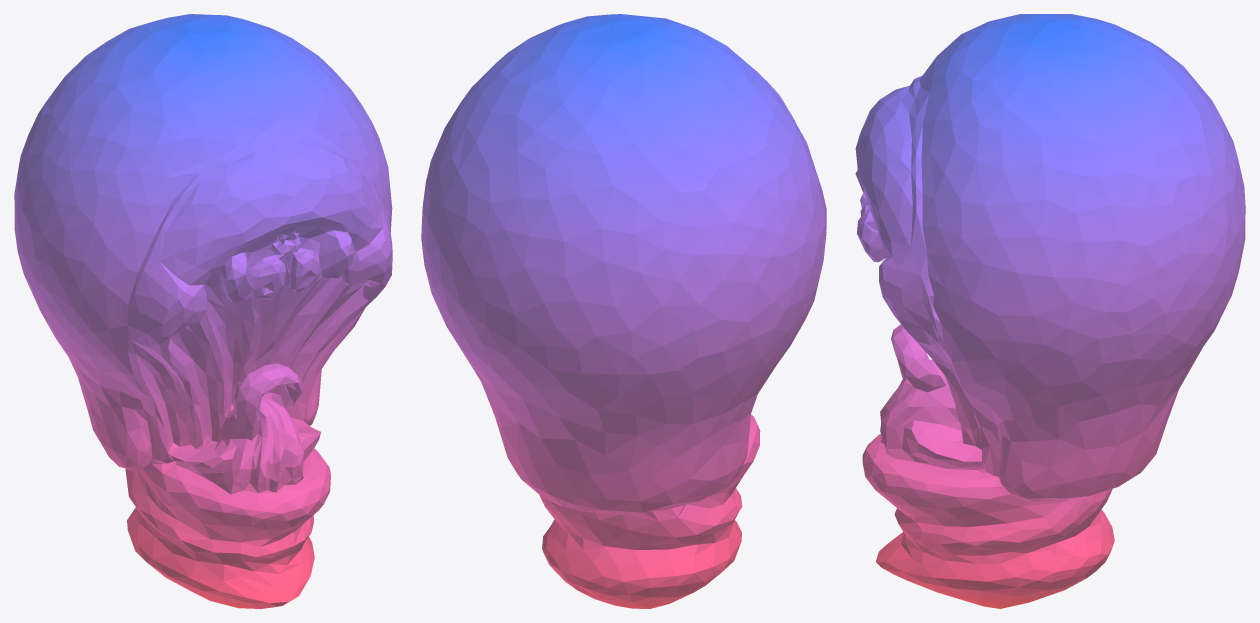
The model's file is 84_cyb_laser_gradient_fish_scales_2826_2026_10_03_7f14d2.glb.
3 renders of one model, left to right at view 1: azimuth 30°, elevation 25°; view 2: azimuth 150°, elevation 25°; view 3: azimuth 270°, elevation 25°, orthographic. The views are drawn at different scales.
Visible parts, largest first — view 1: geometry_0; view 2: geometry_0; view 3: geometry_0.
Part boxes in pixels (x1=…): geometry_0: x1=14, y1=14, x2=392, y2=608; geometry_0: x1=421, y1=14, x2=826, y2=608; geometry_0: x1=855, y1=14, x2=1245, y2=608.
Size of the model in its own units: 0.5885 by 0.9491 by 0.5817.
